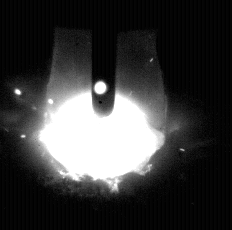arame: (92, 0, 117, 117)
poca: (38, 0, 163, 230)
